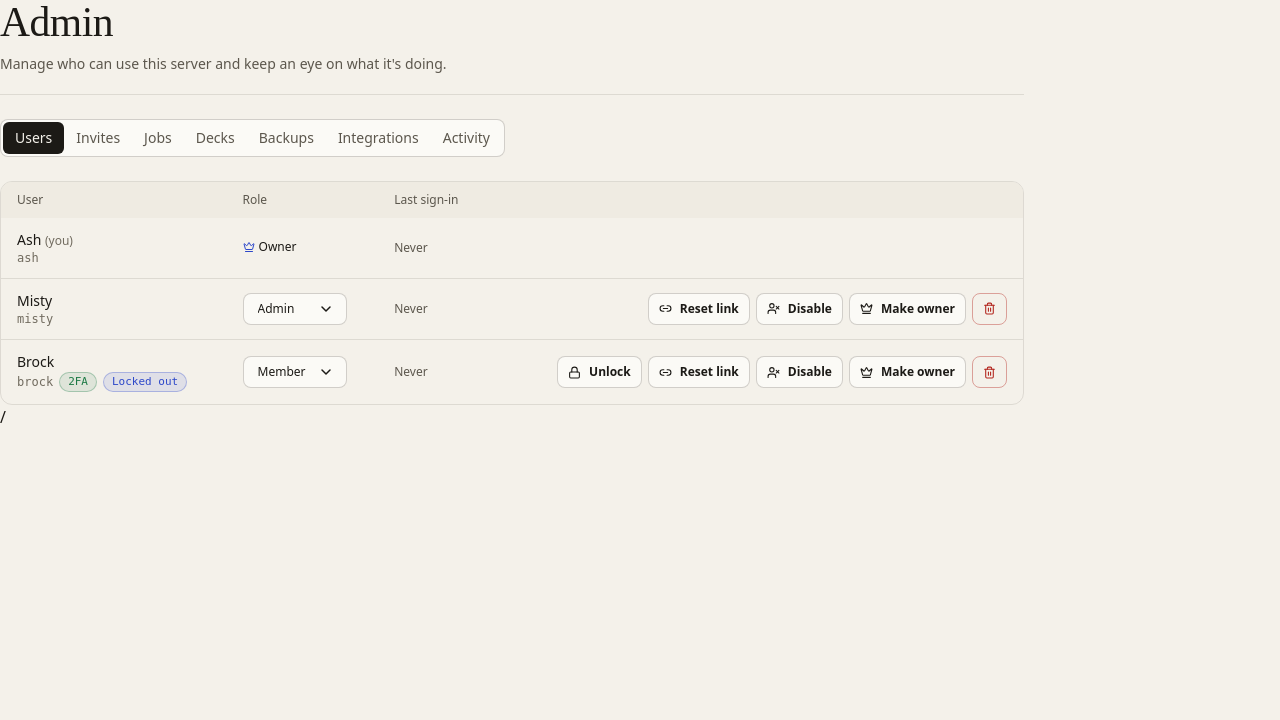
Test: Users › creates a reset link, optionally clearing 2FA
The image size is (1280, 720).
Click the button "Reset link" in the row of "2FA" at (699, 372), box [648,356,750,388]
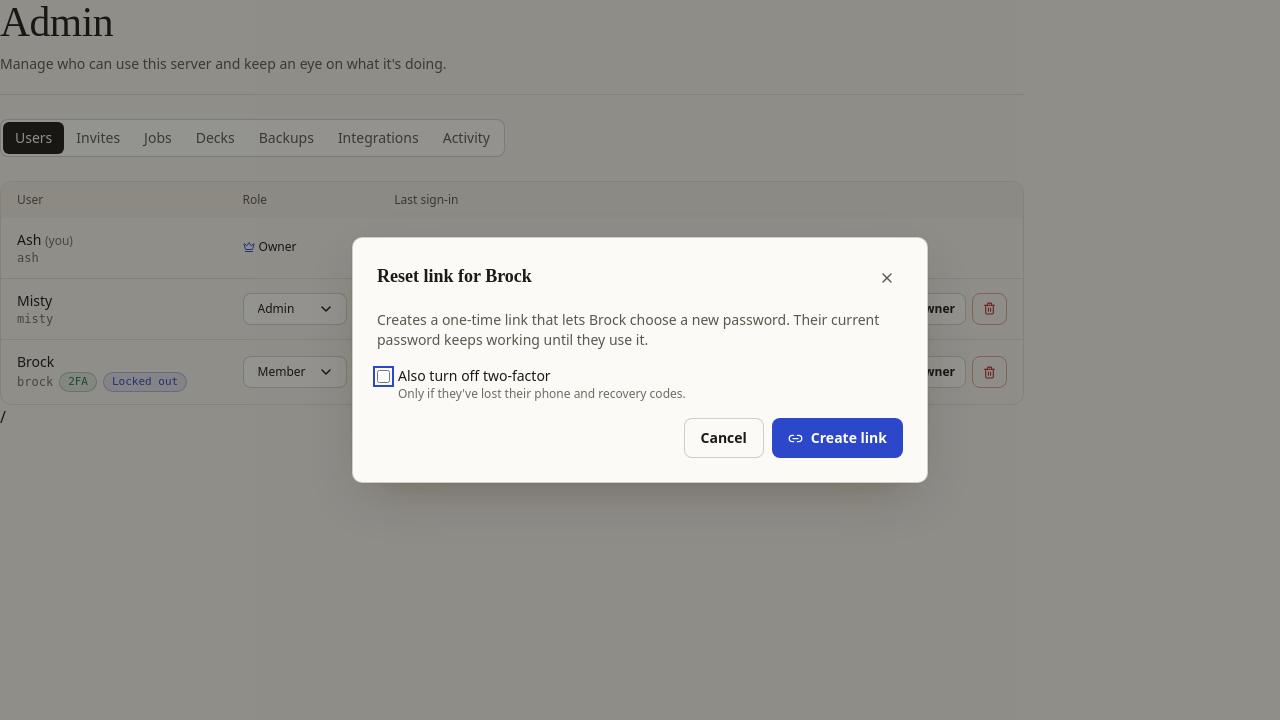
Click the checkbox labelled "Also turn off two-factor" at (384, 376), box [377,370,390,383]
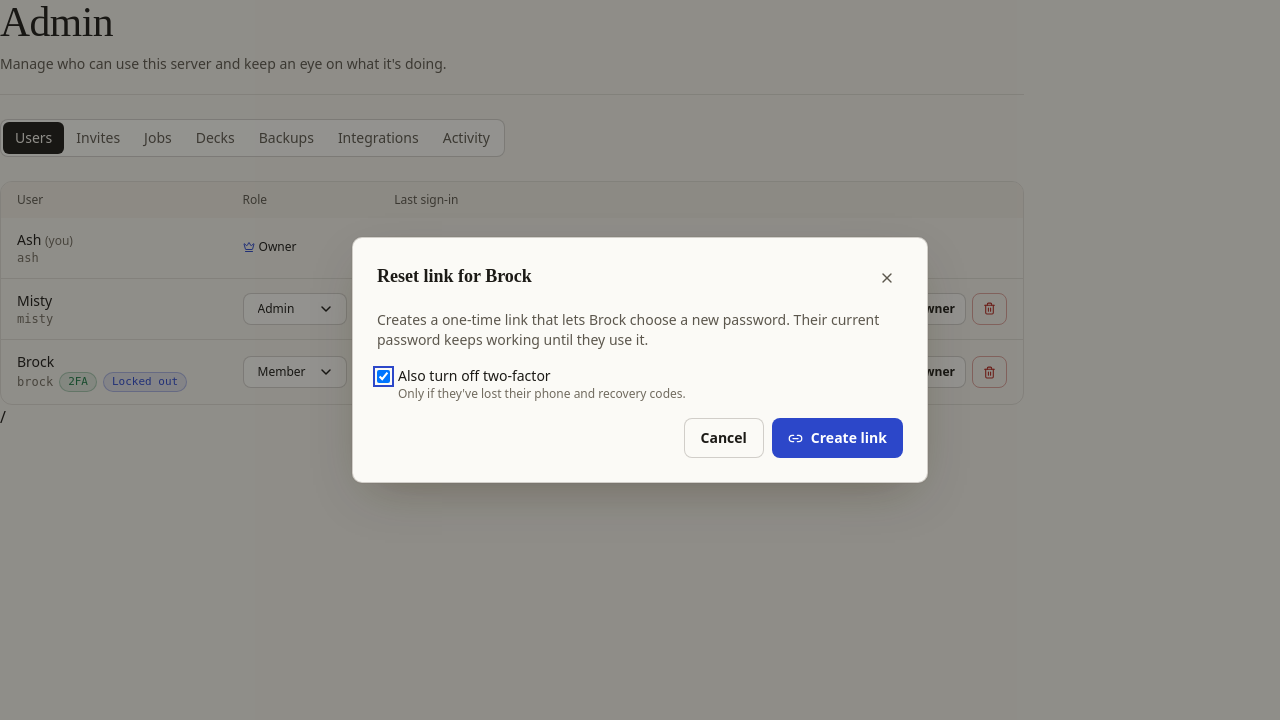
Click the button "Create link" at (837, 438), box [772,418,903,458]
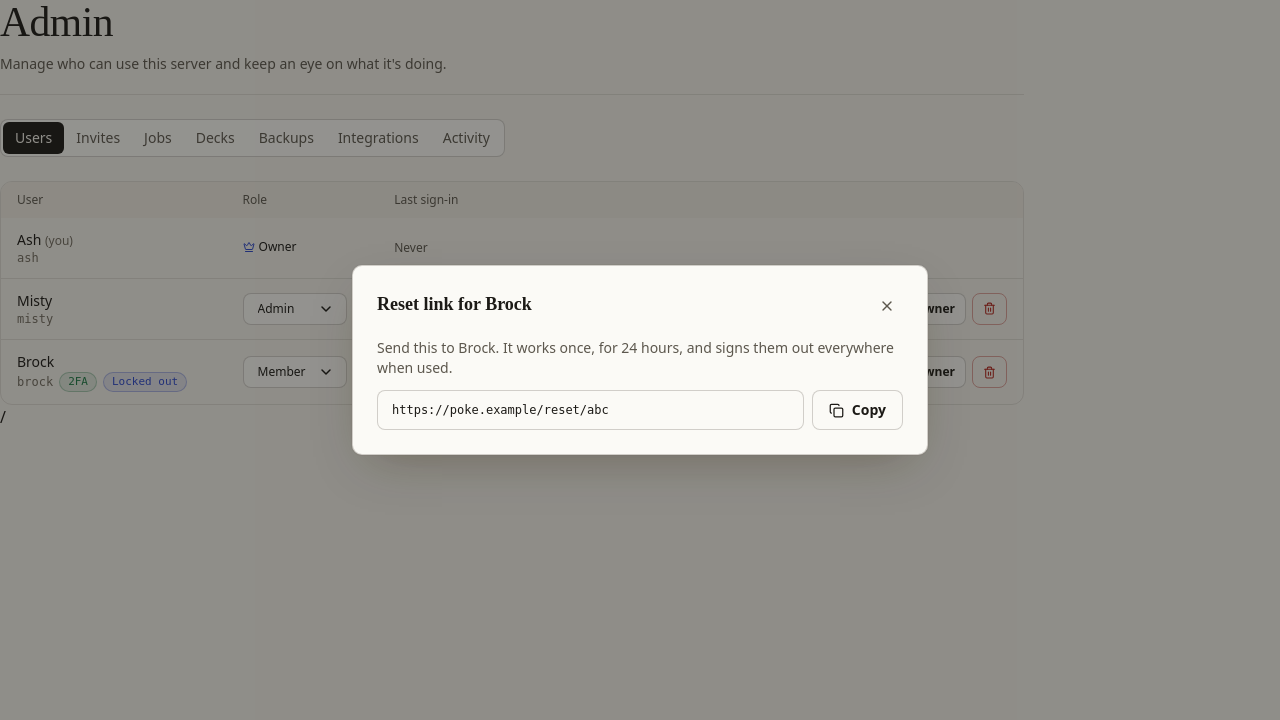
Expected: the field showing "https://poke.example/reset/abc" is shown, [377,390,804,430]
